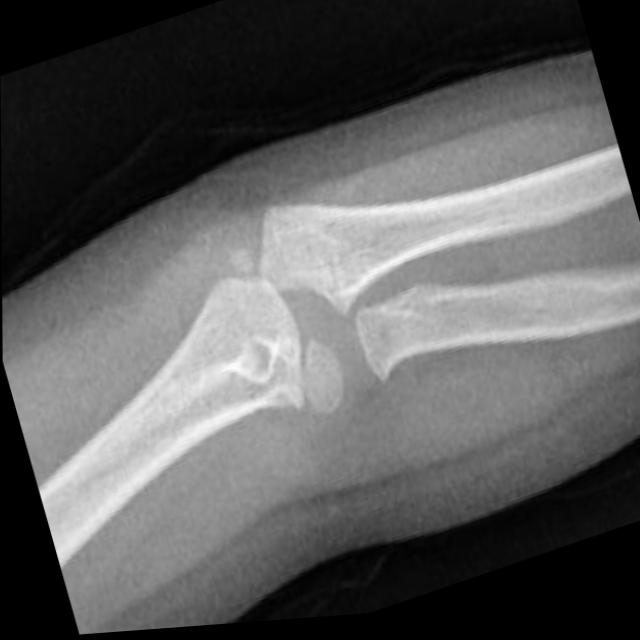fracture: (292, 307, 404, 440)
